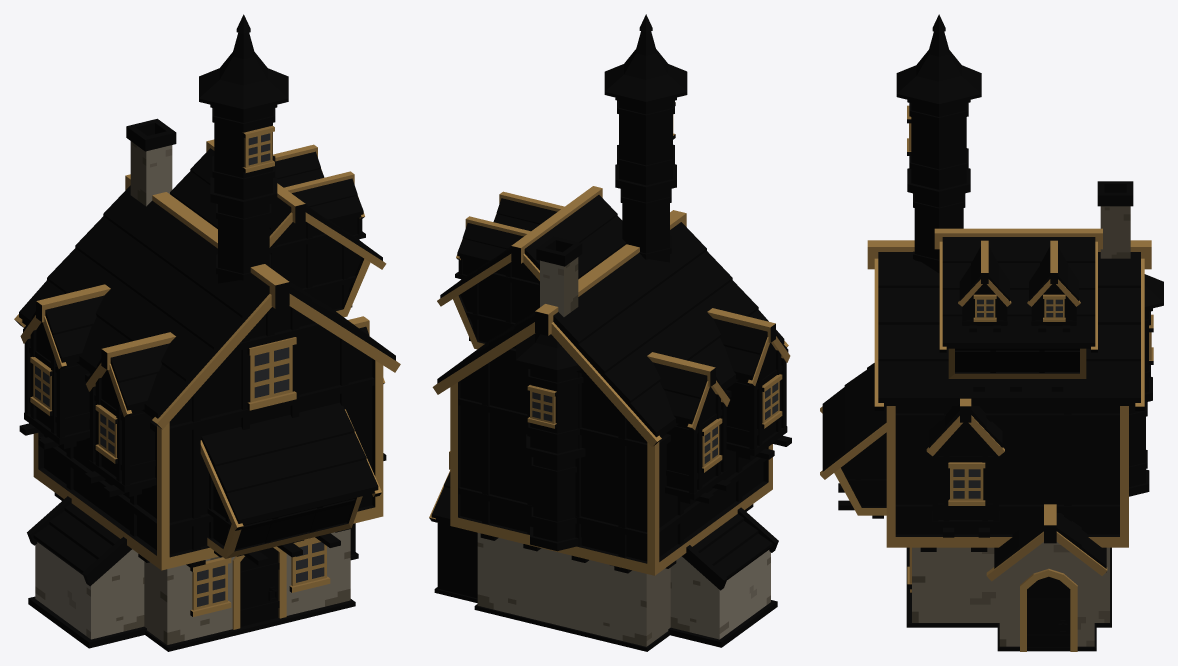
File: House_Large.gltf
3 views of the same model, side by side, from view 1: azimuth 30°, elevation 25°; view 2: azimuth 150°, elevation 25°; view 3: azimuth 270°, elevation 25° (orthographic). The views are drawn at different scales.
Visible parts, largest first — view 1: SF_Bld_House_Large_01; view 2: SF_Bld_House_Large_01; view 3: SF_Bld_House_Large_01.
Boxes of the visible parts, box(x1,y1,x2,y2) form: SF_Bld_House_Large_01: box(14, 14, 400, 651); SF_Bld_House_Large_01: box(429, 14, 791, 651); SF_Bld_House_Large_01: box(820, 14, 1163, 651).
Bounding box in the file's own units: 0.1518 × 0.2889 × 0.1579.
1 material, 1 textured.
